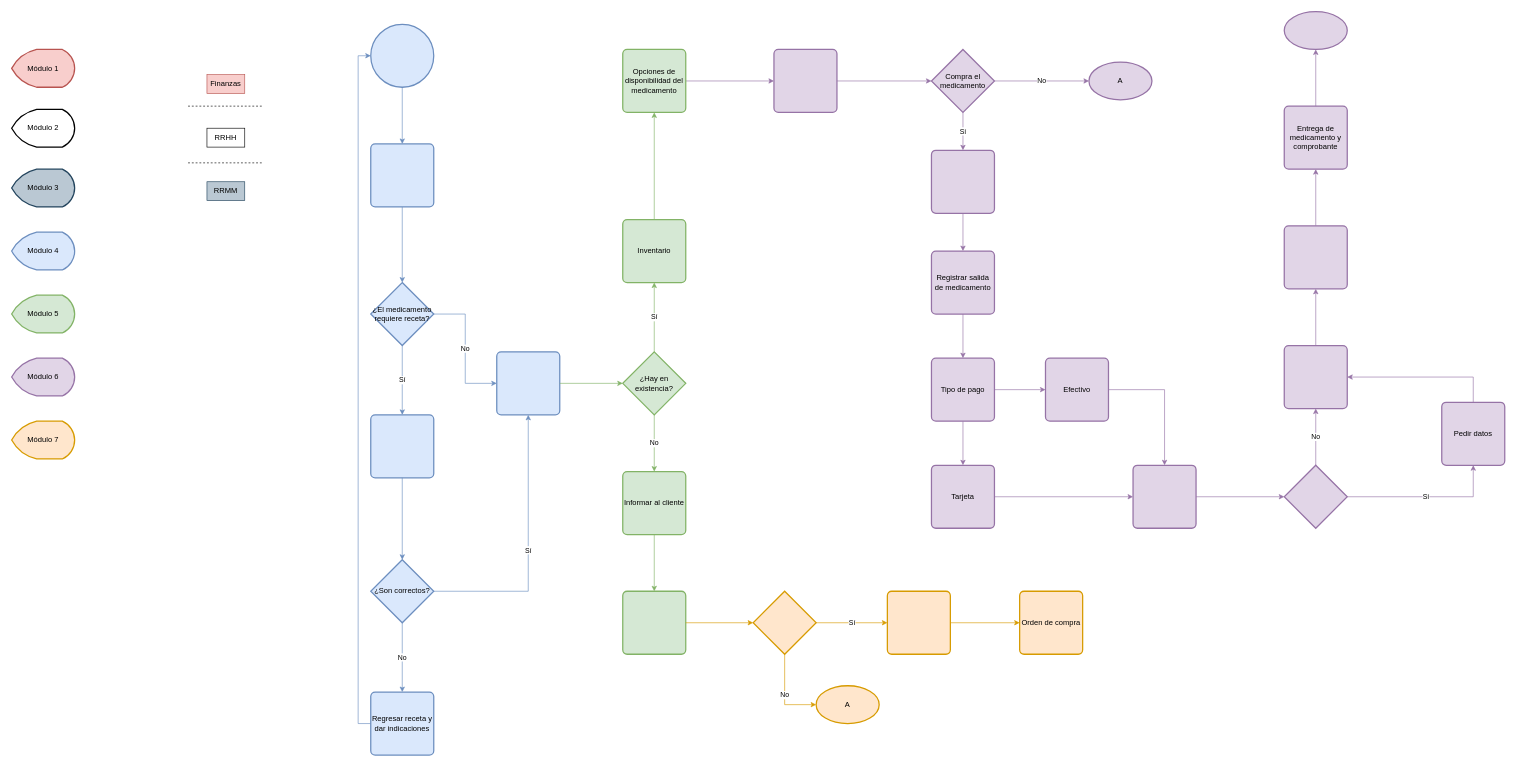
Some shapes in this 1516 by 766 pixel diagram are drawn without their labels. The shapes that lost their labels are listed below. From the top down, each one's centre as x and y in pixels, then its label:
At point (1315, 30): "Fin".
At point (402, 55): "Inicio".
At point (805, 81): "Información del precio".
At point (402, 175): "Llegada del cliente".
At point (963, 181): "Adquirir la cantidad de medicamento solicitado".
At point (1315, 257): "Tiket".
At point (528, 383): "Ingresar registro de medicamento".
At point (1315, 377): "Brindar indicaciones de consumo".
At point (402, 446): "Validar datos de la receta".
At point (1164, 496): "Registro de compra".
At point (1315, 496): "¿Requiere factura?".
At point (654, 622): "Registrar demanda inclumplida".
At point (784, 622): "Existe capital de compra".
At point (918, 622): "Catalogo de proveedores".
